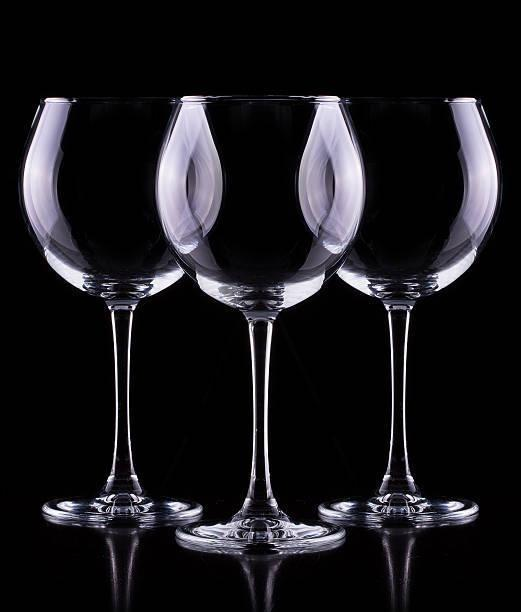glass-wine: (159, 90, 364, 556), (305, 91, 503, 530), (16, 92, 206, 529)
